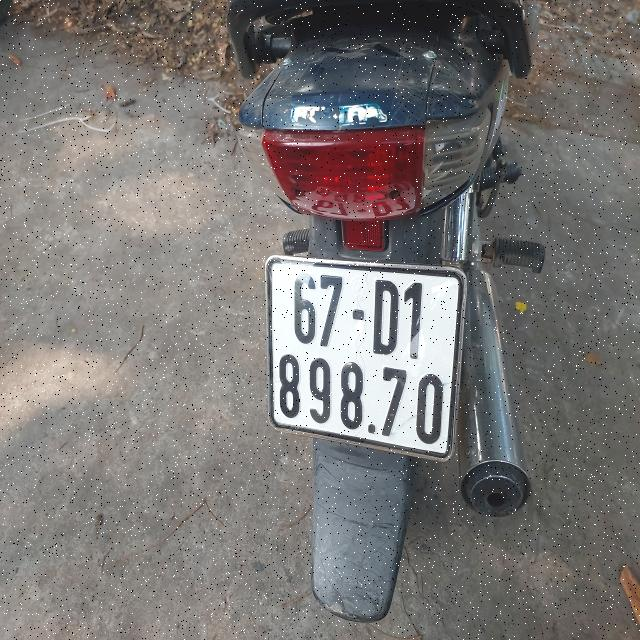0: (417, 372, 445, 447)
1: (404, 281, 424, 361)
6: (293, 273, 318, 344)
7: (319, 273, 343, 347), (383, 365, 407, 439)
8: (340, 358, 364, 429), (278, 354, 303, 420)
9: (308, 356, 334, 426)
D: (374, 281, 399, 356)
